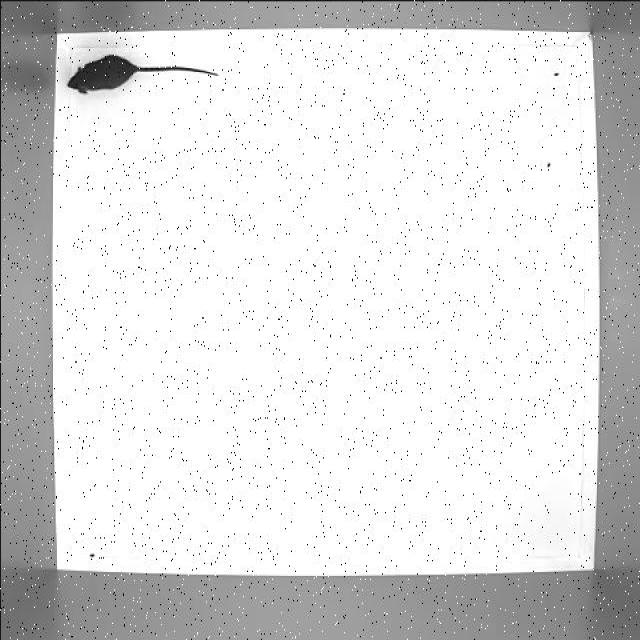rat: (64, 45, 225, 96)
